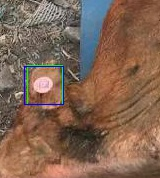text: (27, 65, 62, 104)
